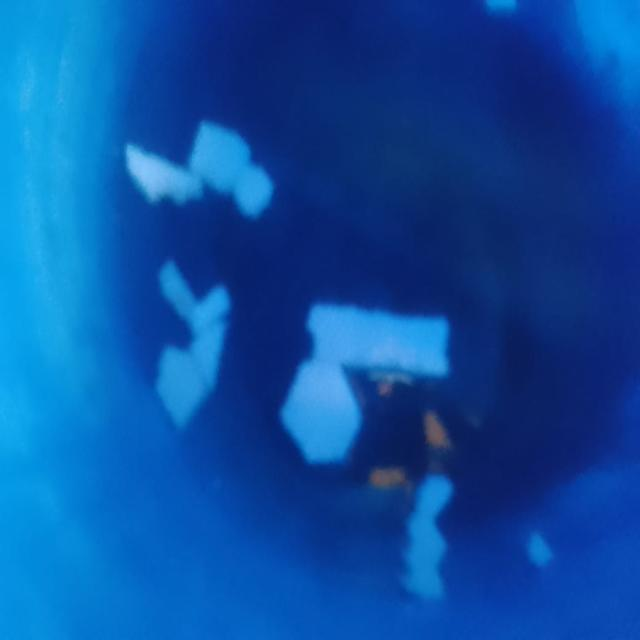thermocoal: (300, 282, 454, 460), (118, 106, 294, 230), (142, 253, 248, 429), (401, 470, 475, 603), (198, 116, 282, 230), (123, 132, 204, 205), (518, 526, 559, 586)
